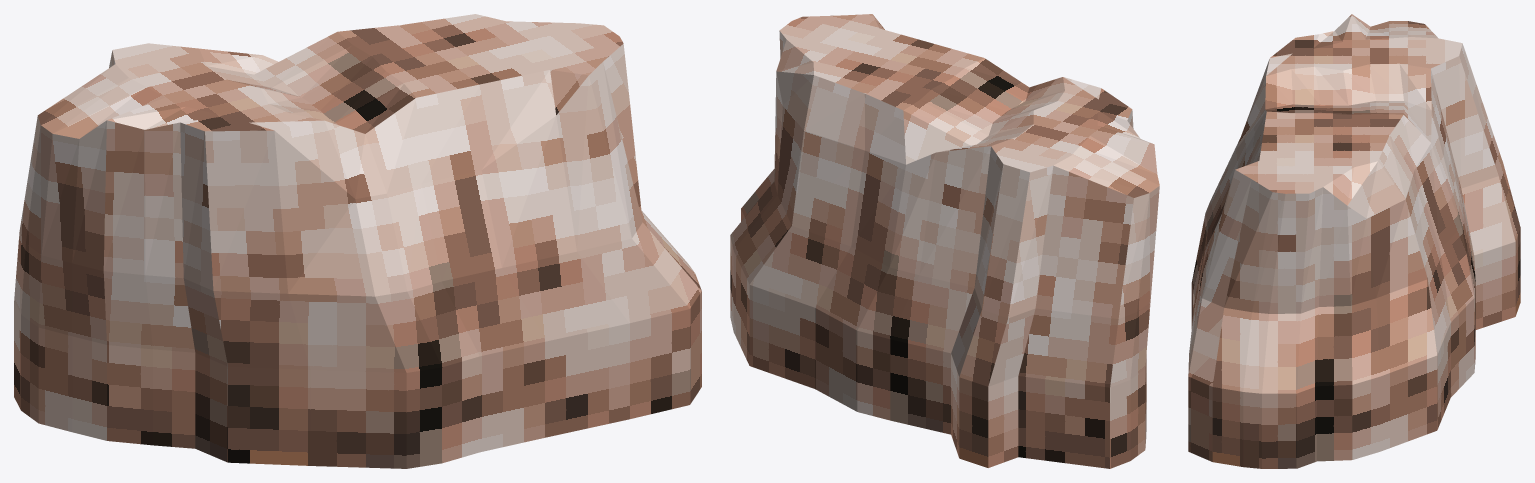
The model's file is rock_341x01.gltf.
3 renders of one model, left to right at view 1: azimuth 30°, elevation 25°; view 2: azimuth 150°, elevation 25°; view 3: azimuth 270°, elevation 25°, orthographic. The views are drawn at different scales.
Visible parts, largest first — view 1: Rock_341x1; view 2: Rock_341x1; view 3: Rock_341x1.
Boxes of the visible parts, x1,y1,x2,y2 form: Rock_341x1: (14,14,701,468); Rock_341x1: (730,14,1159,468); Rock_341x1: (1188,14,1520,468).
Bounding box in the file's own units: 2.86 × 1.6 × 1.89.
Materials: 1 (1 with a texture image).
